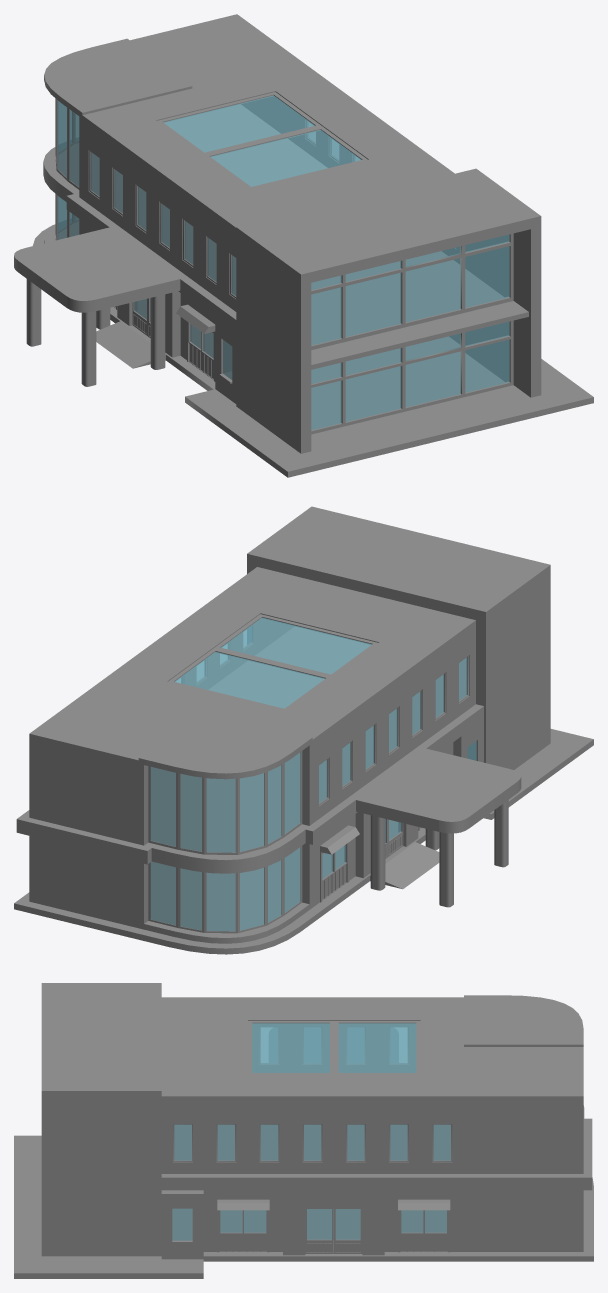
File: Library_Ground.fbx
3 views of the same model, one above another, from view 1: azimuth 30°, elevation 25°; view 2: azimuth 150°, elevation 25°; view 3: azimuth 270°, elevation 25° (orthographic). The views are drawn at different scales.
Visible parts, largest first — view 1: Floor001; view 2: Floor001; view 3: Floor001.
Boxes of the visible parts, x1,y1,x2,y2 form: Floor001: (14,14,593,477); Floor001: (14,506,593,954); Floor001: (14,983,593,1278).
Bounding box in the file's own units: 2349 × 1099 × 3380.
